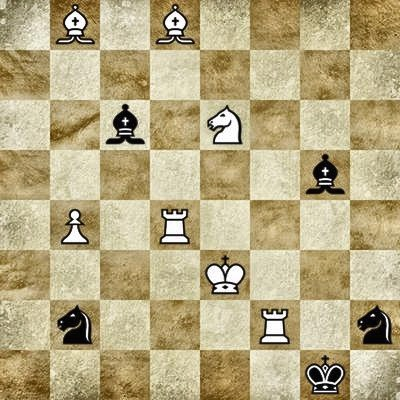black-bishop: (100, 100, 150, 150), (300, 150, 350, 200)
black-king: (300, 350, 350, 400)
black-knight: (50, 300, 100, 350), (350, 300, 400, 350)
white-bishop: (50, 0, 100, 50), (150, 0, 200, 50)
white-king: (200, 250, 250, 300)
white-knight: (200, 100, 250, 150)
white-pawn: (50, 200, 100, 250)
white-rook: (150, 200, 200, 250), (250, 300, 300, 350)
